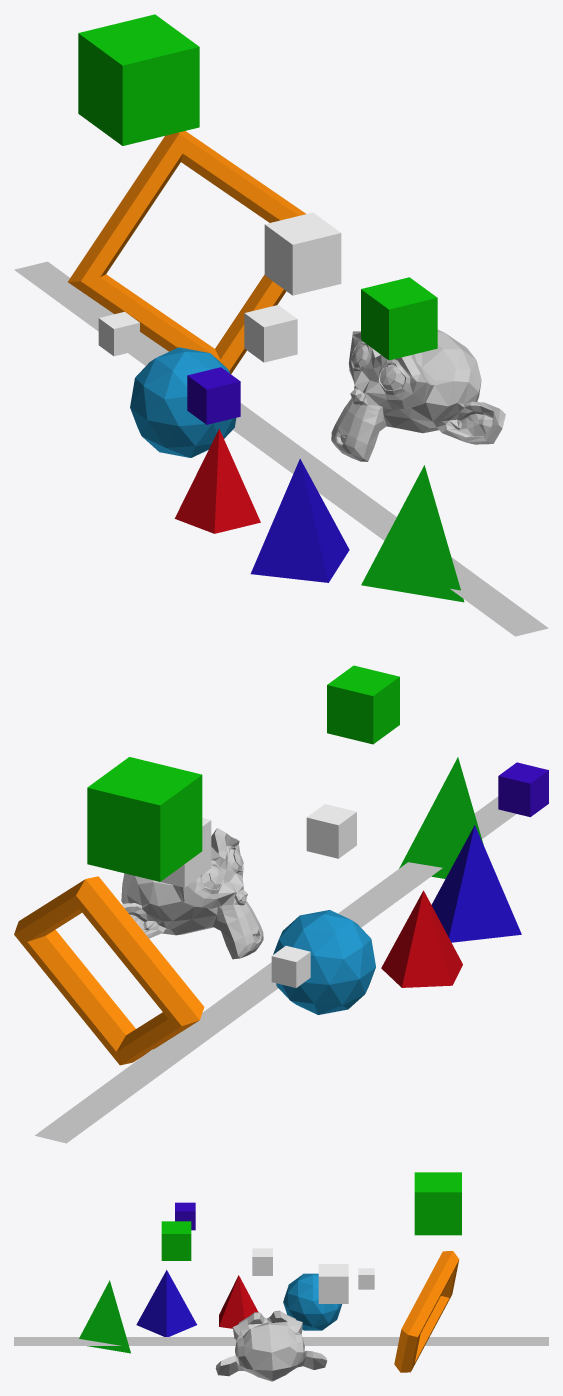
3 renders of one model, top to bottom at view 1: azimuth 30°, elevation 25°; view 2: azimuth 150°, elevation 25°; view 3: azimuth 270°, elevation 25°, orthographic. The views are drawn at different scales.
Parts seen in each view (by area): view 1: Torus, Suzanne, Cube.004_Cube.012, Plane_Emissive_Plane.002, Cone_Cone.005, Icosphere_Icosphere.001, Cone.001_Cone.007, Cube.002_Cube.008, Cube.001_Cube.004, Right_Cone_Cone.002, Cube_Cube.011, Cube.003_Cube.010 (+1 smaller); view 2: Torus, Cube.004_Cube.012, Plane_Emissive_Plane.002, Suzanne, Icosphere_Icosphere.001, Cone.001_Cone.007, Cube.001_Cube.004, Right_Cone_Cone.002, Cone_Cone.005, Cube_Cube.011, Cube.003_Cube.010, Small_Cube_Emissive_Cube.002 (+1 smaller); view 3: Suzanne, Plane_Emissive_Plane.002, Torus, Cube.004_Cube.012, Cone.001_Cone.007, Icosphere_Icosphere.001, Cone_Cone.005, Cube.001_Cube.004, Cube.002_Cube.008, Right_Cone_Cone.002, Cube_Cube.011, Cube.003_Cube.010 (+1 smaller).
Boxes of the visible parts, x1,y1,x2,y2 form: Torus: [68, 131, 305, 373]; Suzanne: [331, 329, 505, 461]; Cube.004_Cube.012: [78, 14, 199, 145]; Plane_Emissive_Plane.002: [14, 261, 548, 636]; Cone_Cone.005: [361, 465, 464, 602]; Icosphere_Icosphere.001: [130, 347, 236, 457]; Cone.001_Cone.007: [250, 458, 349, 582]; Cube.002_Cube.008: [264, 212, 341, 295]; Cube.001_Cube.004: [361, 277, 437, 360]; Right_Cone_Cone.002: [174, 429, 260, 533]; Cube_Cube.011: [244, 305, 297, 362]; Cube.003_Cube.010: [187, 367, 240, 424]; Torus: [14, 876, 204, 1065]; Cube.004_Cube.012: [87, 757, 202, 881]; Plane_Emissive_Plane.002: [35, 796, 515, 1143]; Suzanne: [121, 828, 263, 959]; Icosphere_Icosphere.001: [273, 910, 375, 1014]; Cone.001_Cone.007: [431, 825, 521, 942]; Cube.001_Cube.004: [327, 665, 399, 744]; Right_Cone_Cone.002: [381, 890, 462, 987]; Cone_Cone.005: [399, 757, 483, 878]; Cube_Cube.011: [306, 804, 356, 858]; Cube.003_Cube.010: [498, 762, 548, 817]; Small_Cube_Emissive_Cube.002: [271, 945, 310, 987]; Suzanne: [215, 1310, 327, 1381]; Plane_Emissive_Plane.002: [14, 1337, 548, 1345]; Torus: [394, 1251, 459, 1372]; Cube.004_Cube.012: [414, 1172, 461, 1235]; Cone.001_Cone.007: [136, 1270, 196, 1336]; Icosphere_Icosphere.001: [283, 1273, 342, 1330]; Cone_Cone.005: [79, 1280, 130, 1353]; Cube.001_Cube.004: [161, 1221, 191, 1260]; Cube.002_Cube.008: [318, 1264, 348, 1303]; Right_Cone_Cone.002: [219, 1275, 258, 1328]; Cube_Cube.011: [252, 1248, 272, 1275]; Cube.003_Cube.010: [175, 1202, 195, 1230].
Size of the model in its own units: 21.11 by 18.9 by 51.42.
